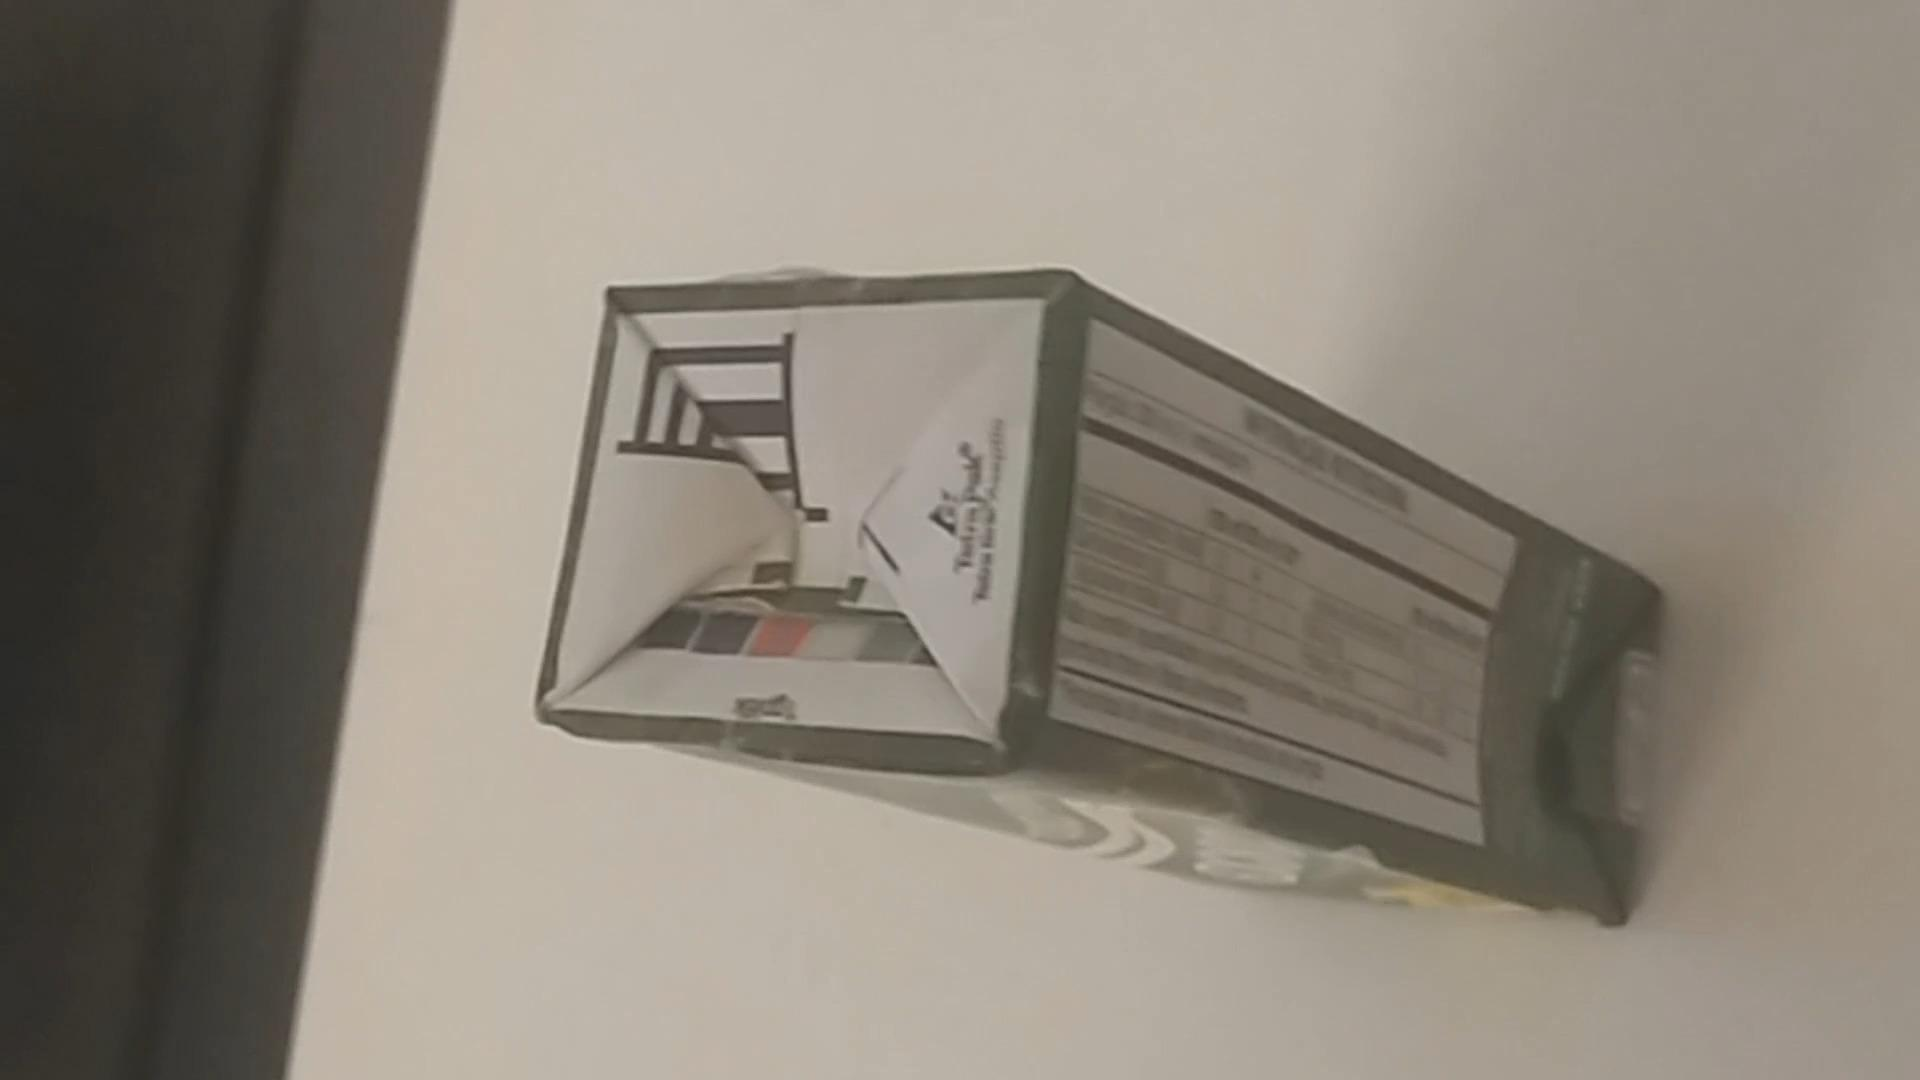coco: (513, 260, 1677, 948)
